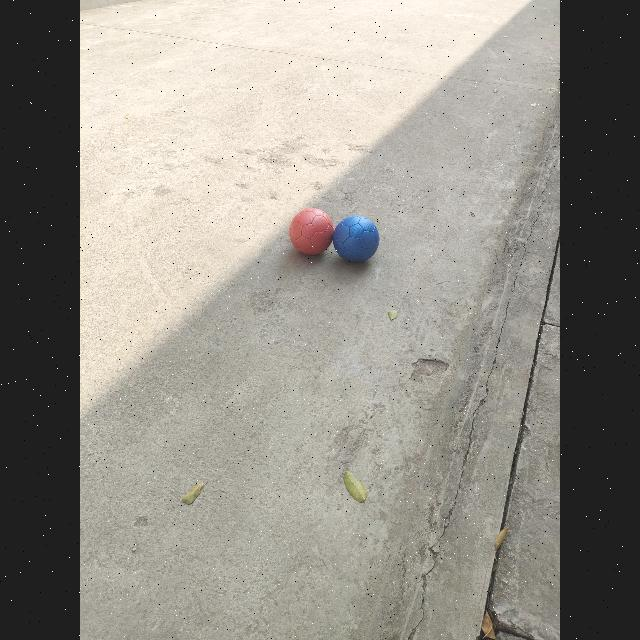B: (332, 215, 380, 262)
R: (289, 208, 334, 255)
